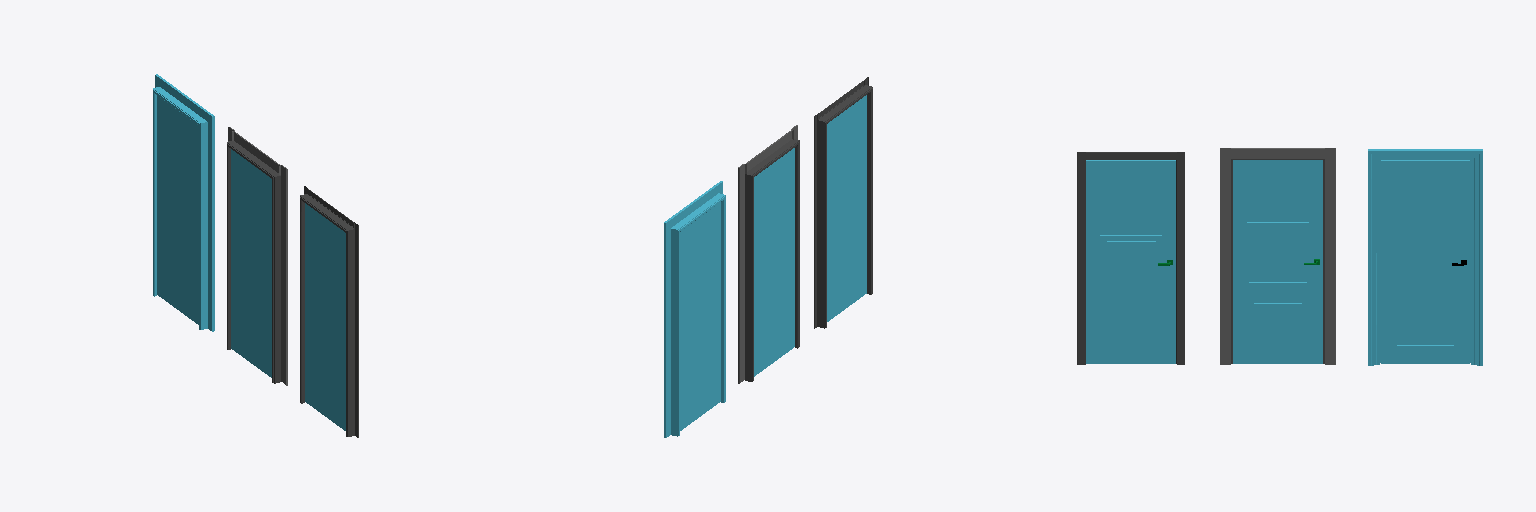
Rendered from radaquadro3.obj.
3 renders of one model, left to right at view 1: azimuth 30°, elevation 25°; view 2: azimuth 150°, elevation 25°; view 3: azimuth 270°, elevation 25°, orthographic.
Parts seen in each view (by area): view 1: Quadro3, Quadro004, Quadro005, brus_PLANE, Line012, Line018, Rectangle0, Line017, plane2; view 2: Quadro3, Quadro004, Quadro005, brus_PLANE, Line012, Line018, Rectangle0, Shape661, plane1; view 3: Quadro004, Quadro005, Quadro3, Rectangle0, Line017, Shape661, plane2, plane1, Line019, Line018, Line012, plane3.
Part boxes in pixels (x1,y1,x2,y2): Quadro3: (157,95,198,324); Quadro004: (231,149,271,377); Quadro005: (305,203,345,430); brus_PLANE: (300,194,354,436); Line012: (153,87,207,329); Line018: (227,141,280,383); Rectangle0: (155,74,214,331); Line017: (279,165,287,385); plane2: (354,222,358,437); Quadro3: (680,202,720,430); Quadro004: (754,148,794,376); Quadro005: (827,95,866,321); brus_PLANE: (818,85,872,328); Line012: (671,193,725,436); Line018: (745,139,799,381); Rectangle0: (664,181,722,437); Shape661: (738,164,746,383); plane1: (814,114,818,328); Quadro004: (1233,160,1322,363); Quadro005: (1086,160,1175,363); Quadro3: (1381,160,1469,363); Rectangle0: (1368,149,1482,365); Line017: (1220,148,1230,364); Shape661: (1325,148,1335,364); plane2: (1077,152,1085,364); plane1: (1176,152,1184,364); Line019: (1231,148,1324,158); Line018: (1231,159,1324,363); Line012: (1379,160,1471,364); plane3: (1086,152,1176,159).
Bounding box in the file's own units: 142 × 2131 × 3615.